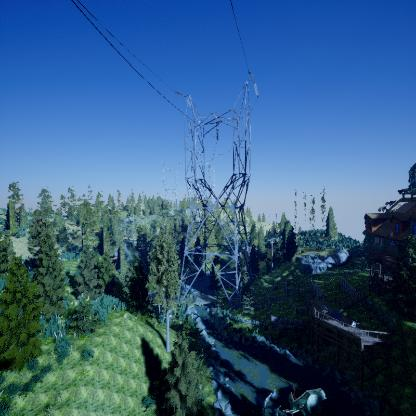tower: (173, 72, 260, 324)
